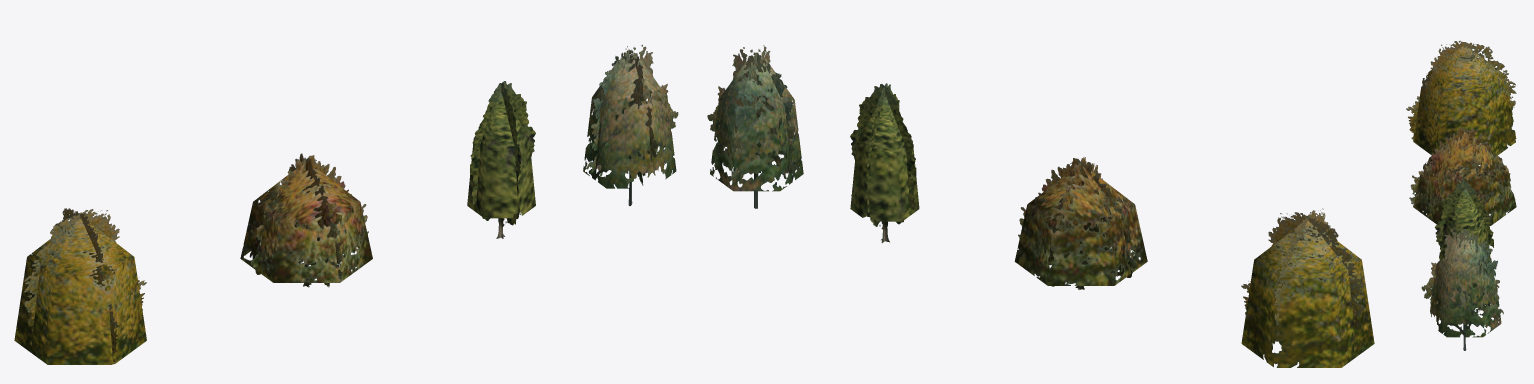
File: tree1.FBX
3 renders of one model, left to right at view 1: azimuth 30°, elevation 25°; view 2: azimuth 150°, elevation 25°; view 3: azimuth 270°, elevation 25°, orthographic. The views are drawn at different scales.
Parts seen in each view (by area): view 1: tree02, tree1, tree04, tree03; view 2: tree02, tree1, tree04, tree03; view 3: tree02, tree04, tree1, tree03.
Part boxes in pixels (x1,y1,x2,y2): tree02: [14, 208, 146, 364]; tree1: [240, 153, 372, 287]; tree04: [583, 44, 678, 205]; tree03: [467, 81, 535, 238]; tree02: [1241, 208, 1374, 367]; tree1: [1014, 157, 1147, 289]; tree04: [707, 45, 803, 208]; tree03: [850, 83, 919, 242]; tree02: [1406, 40, 1516, 155]; tree04: [1421, 227, 1503, 350]; tree1: [1409, 127, 1516, 225]; tree03: [1435, 180, 1493, 267].
Bounding box in the file's own units: 1553 × 393 × 305.
